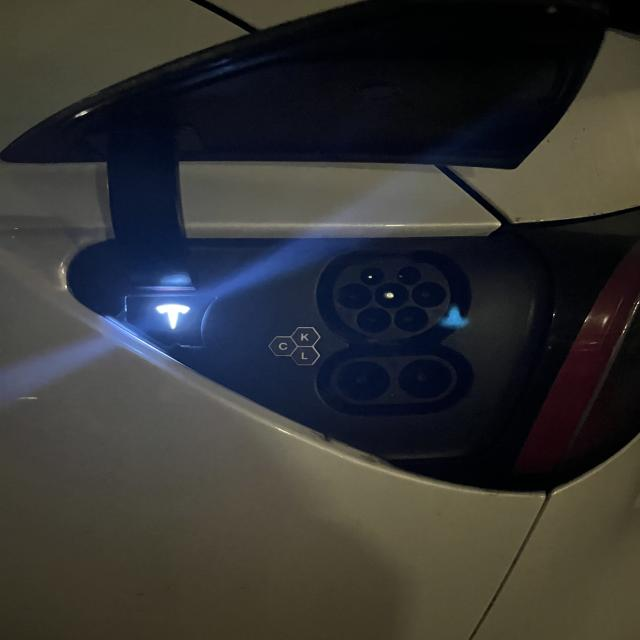inlet: (333, 263, 451, 339)
inlet-above-left: (360, 268, 384, 285)
inlet-above-right: (397, 266, 421, 284)
inlet-below-left: (357, 306, 391, 333)
inlet-below-right: (393, 306, 428, 332)
inlet-circle: (375, 283, 409, 309)
inlet-circle-left: (338, 282, 373, 309)
inlet-circle-right: (412, 281, 447, 307)
inlet-minus: (397, 359, 452, 398)
inlet-plus: (338, 361, 390, 400)
